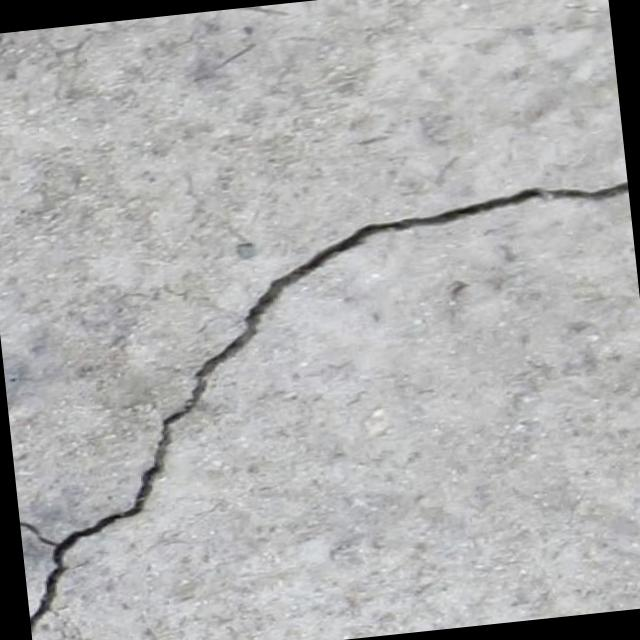crack: (0, 168, 640, 638)
